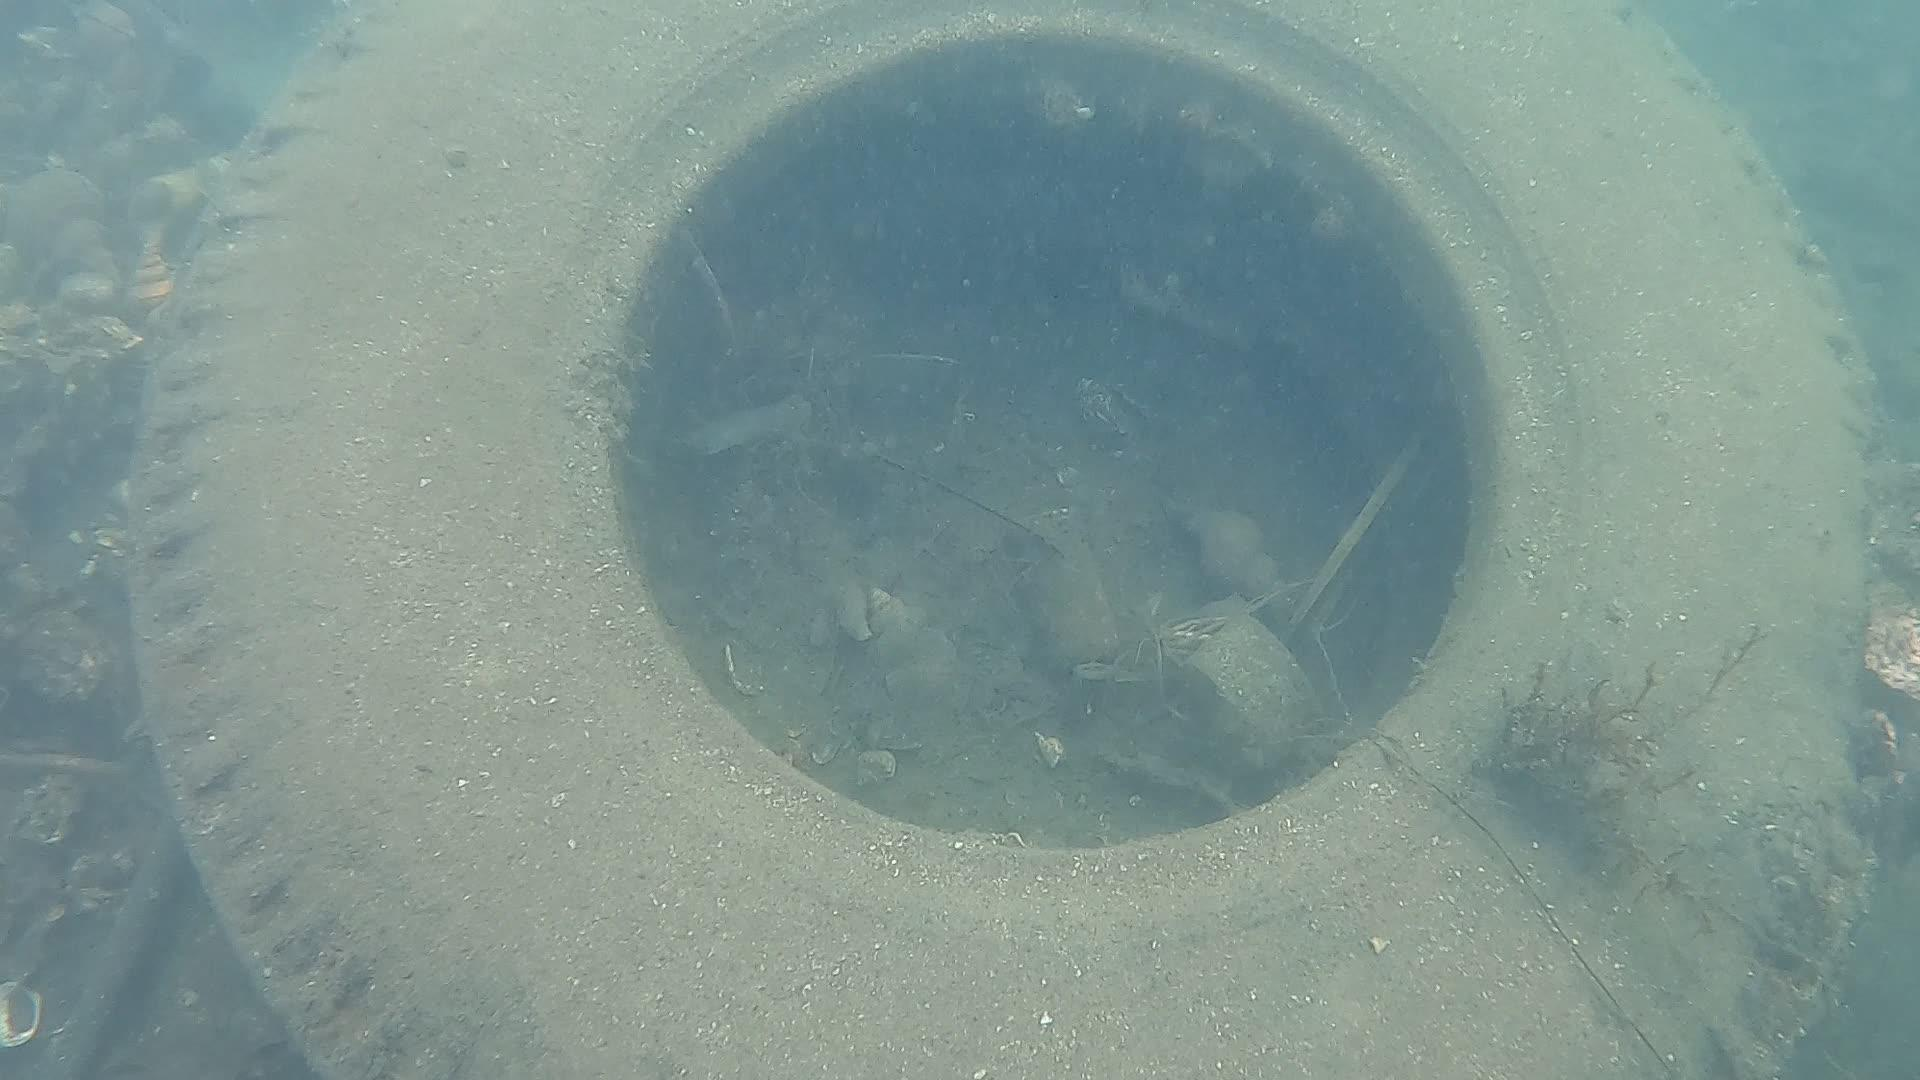tire: (129, 0, 1878, 1080)
